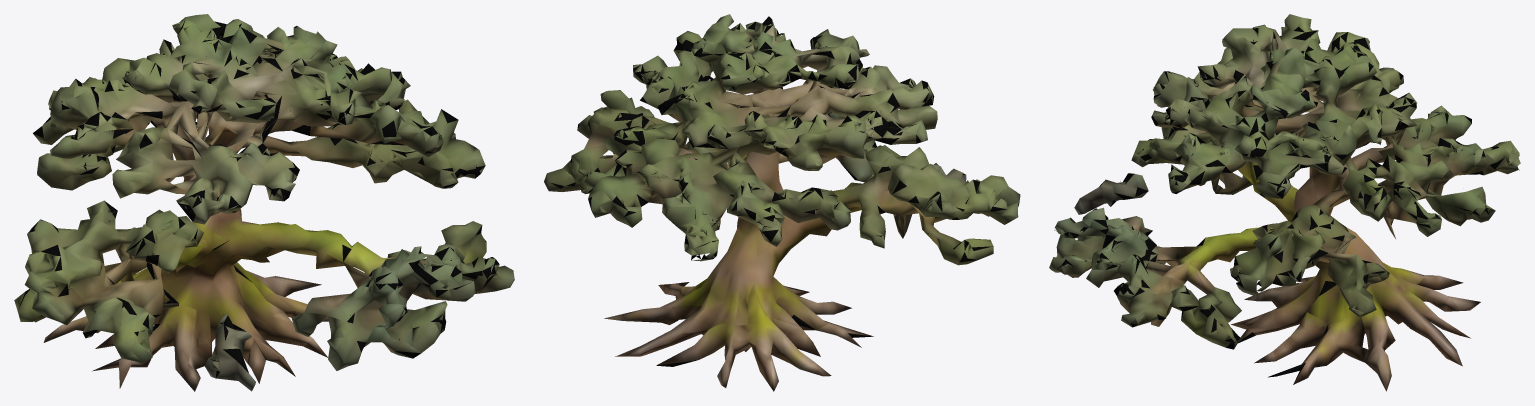
The model's file is tree0.glb.
3 renders of one model, left to right at view 1: azimuth 30°, elevation 25°; view 2: azimuth 150°, elevation 25°; view 3: azimuth 270°, elevation 25°, orthographic. The views are drawn at different scales.
Visible parts, largest first — view 1: MV_tree0; view 2: MV_tree0; view 3: MV_tree0.
Part boxes in pixels (bbox=[...]): MV_tree0: bbox=[14, 14, 514, 391]; MV_tree0: bbox=[544, 14, 1020, 391]; MV_tree0: bbox=[1049, 14, 1520, 391].
Bounding box in the file's own units: 7.77 × 5.2 × 7.69.
1 material, 1 textured.
